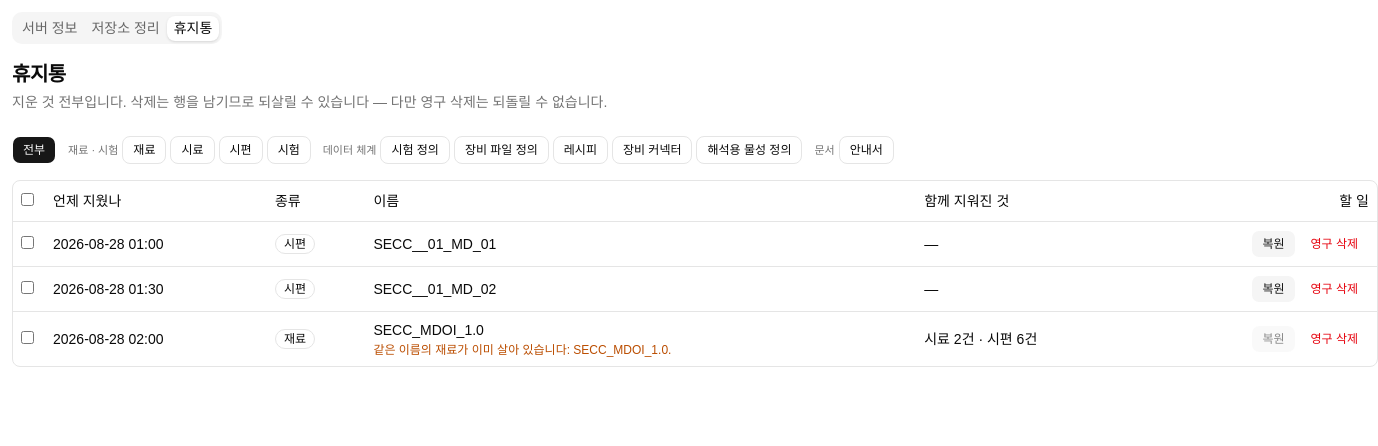
it: 골라서 한꺼번에 삭제 › Shift 로 사이에 낀 줄까지 고른다
Expected: the text "SECC_MDOI_1.0" is shown, [373, 322, 484, 338]
Click the checkbox named "SECC__01_MD_01 선택": (28, 242) [21, 236, 34, 248]
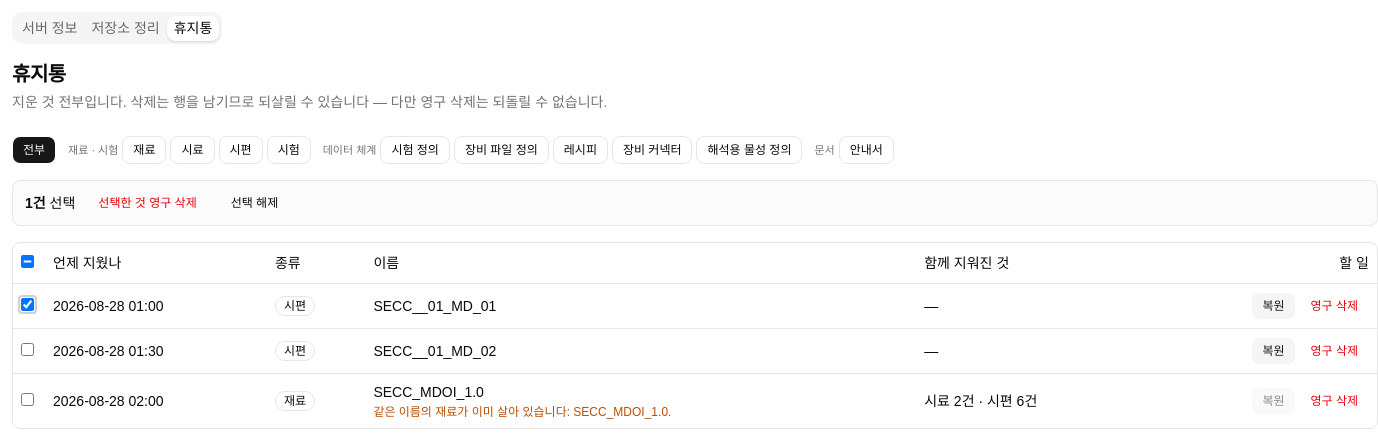
# **`fireEvent` 다.** `userEvent.click` 의 둘째 인자는 shiftKey 를 안 받는다.
Click the checkbox named "SECC_MDOI_1.0 선택": (28, 399) [21, 392, 34, 406]
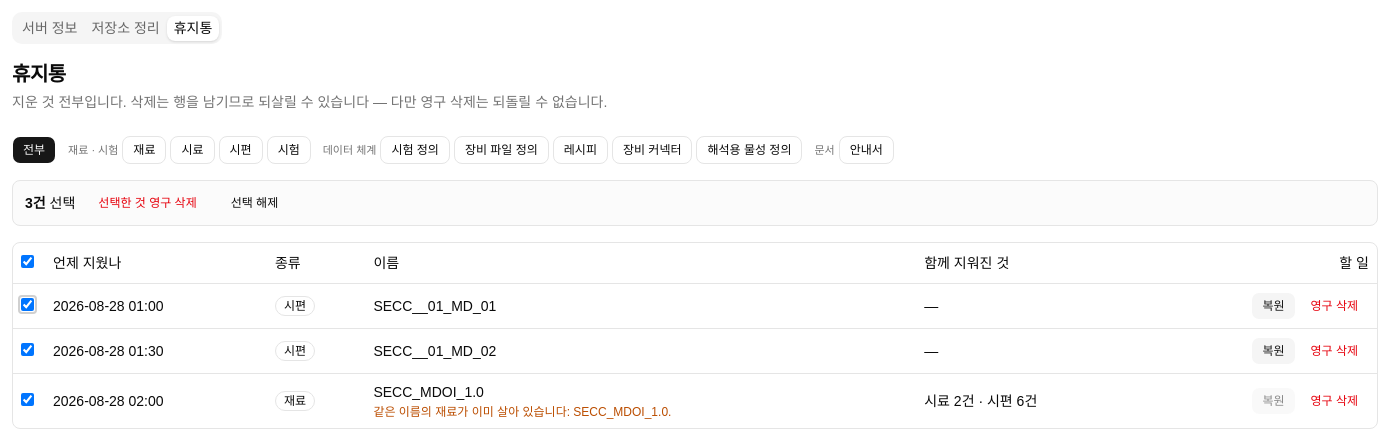
Expected: the text "3건" is shown, [25, 195, 46, 211]
